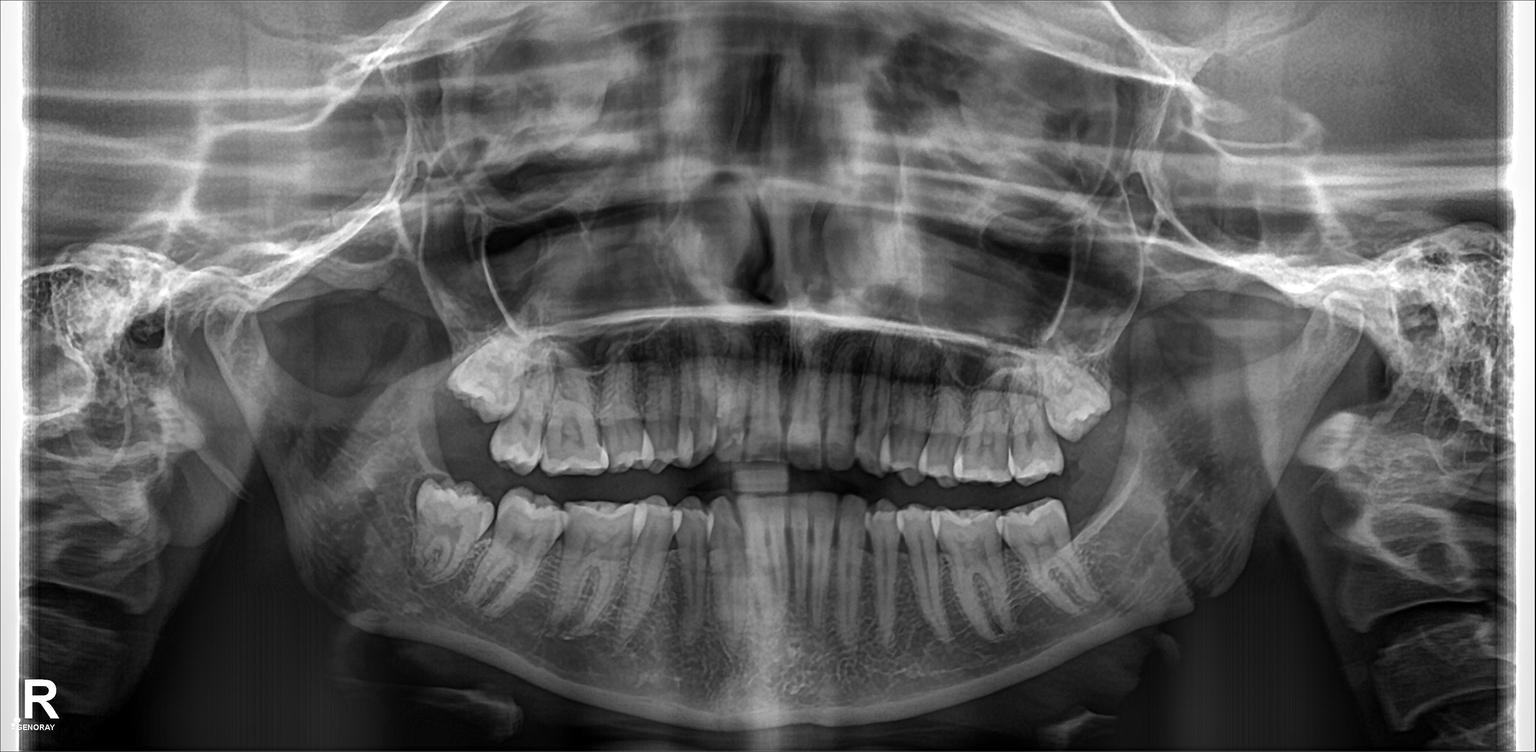Impacted Third Molar: (445, 348, 533, 417), (413, 486, 480, 572), (1037, 367, 1116, 438)
Missing Tooth: (1065, 478, 1116, 569)
